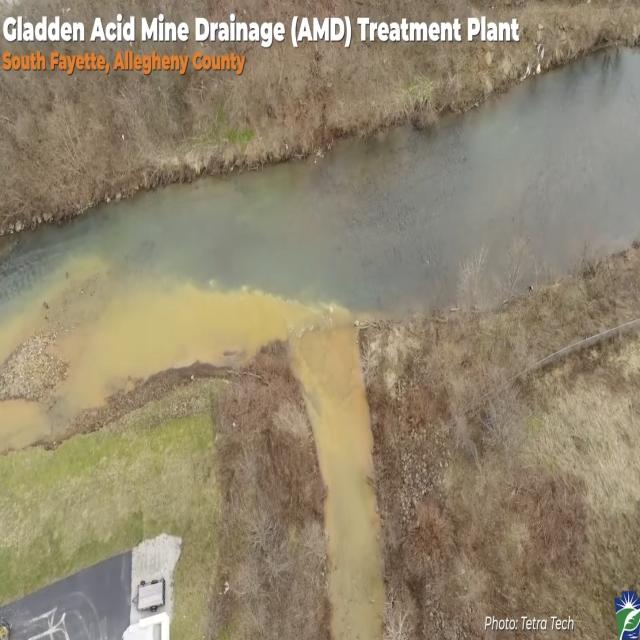yellow_boy: (0, 259, 384, 639)
